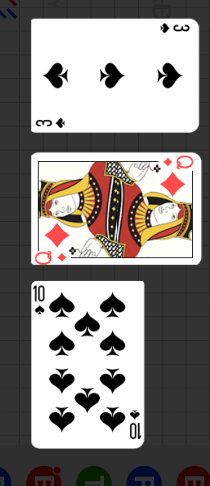10S: (127, 407, 141, 441), (33, 284, 47, 317)
3S: (33, 116, 67, 130)
QD: (31, 208, 78, 252), (152, 141, 198, 185)
